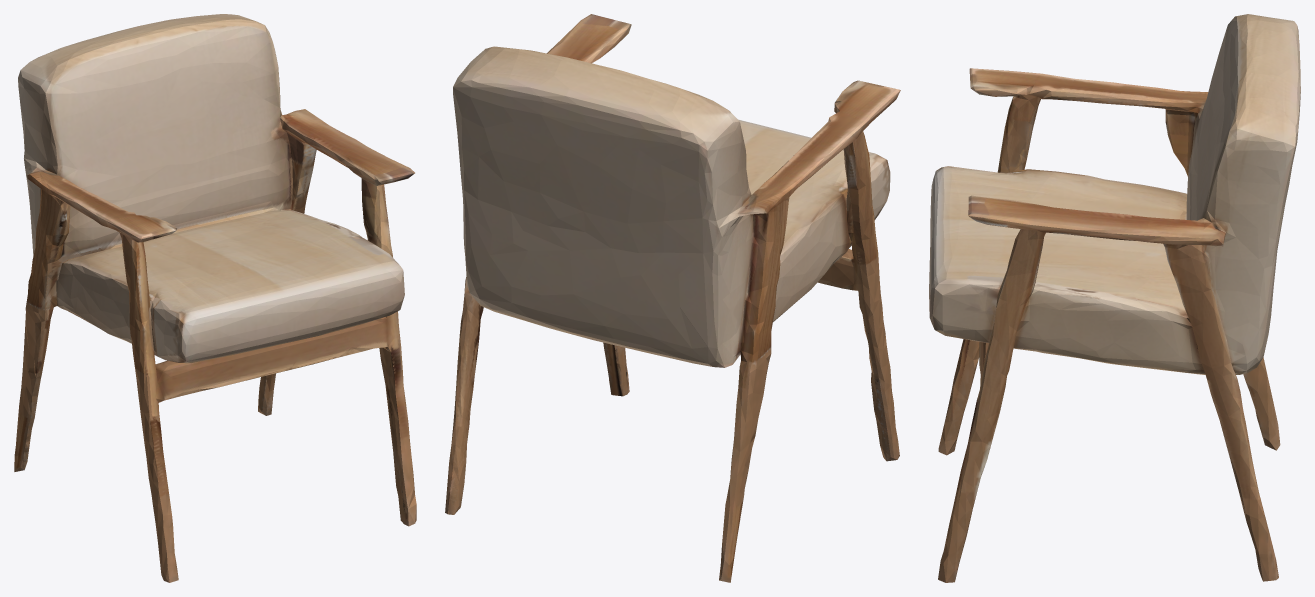
Rendered from scandinavian-accent-chair.glb.
3 views of the same model, side by side, from view 1: azimuth 30°, elevation 25°; view 2: azimuth 150°, elevation 25°; view 3: azimuth 270°, elevation 25° (orthographic). The views are drawn at different scales.
Parts seen in each view (by area): view 1: chair; view 2: chair; view 3: chair.
Boxes of the visible parts, x1,y1,x2,y2 form: chair: [14, 14, 416, 582]; chair: [445, 14, 900, 582]; chair: [929, 14, 1300, 582].
Size of what is drawn, in the model's own units: 1.14 by 1.64 by 1.2.
1 material, 1 textured.
